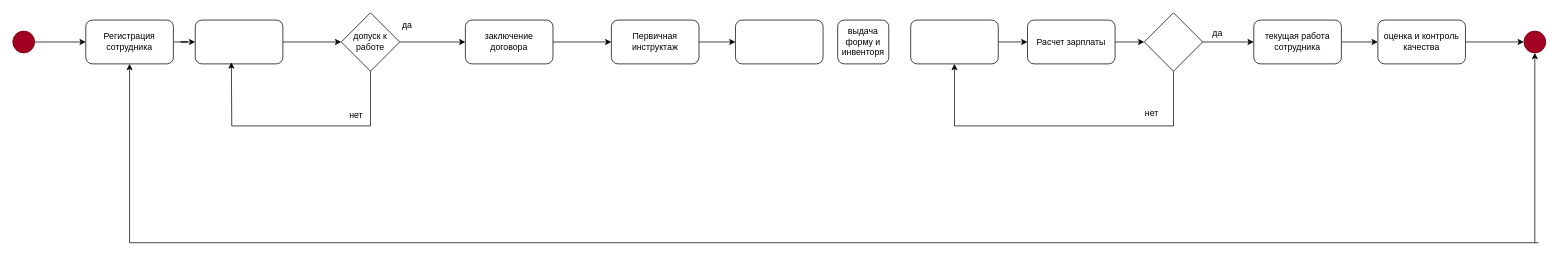
Image size: 1559x261. Some labels were removed from this diagram. The centre of each missing label's shape, as x and y in pixels:
"обучение стандартам работы" goes at point 779,41.
"Оплата труда" goes at point 1173,41.
"Проверка документов и квалификации" goes at point 239,41.
"составление графика работы" goes at point 954,41.
